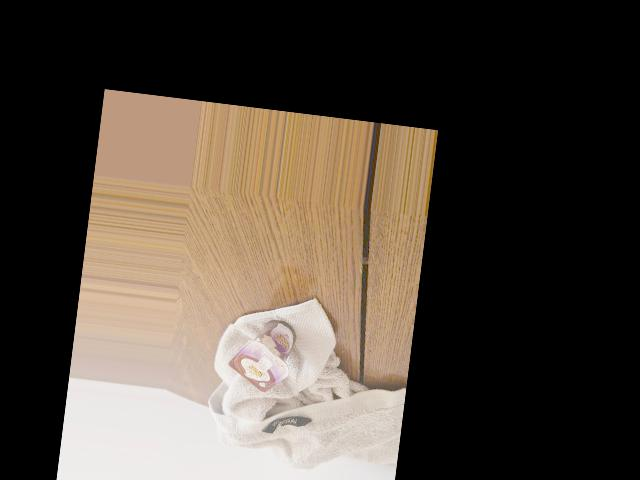milky: (226, 313, 295, 395)
